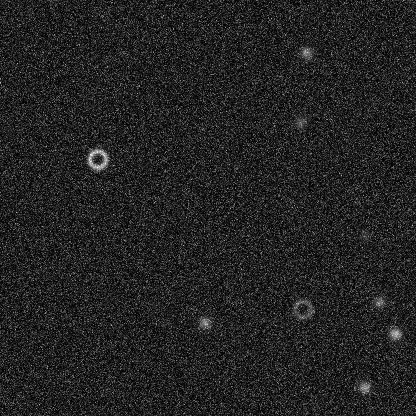Ring: (85, 147, 109, 171), (290, 297, 314, 321)
Spot: (387, 325, 403, 341), (356, 227, 372, 243), (370, 294, 386, 310), (298, 44, 314, 60), (356, 379, 372, 395), (196, 314, 212, 330), (292, 113, 308, 129)
